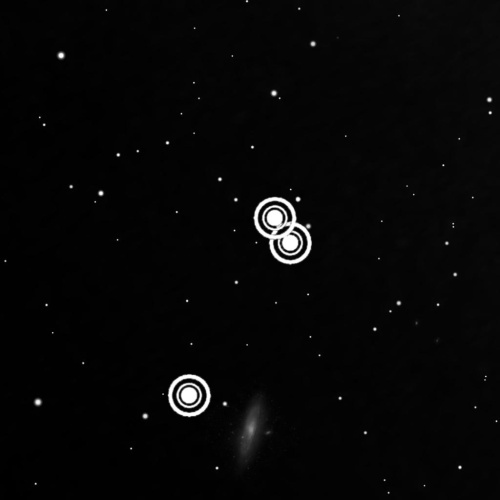canis_minor: (162, 191, 314, 427)
